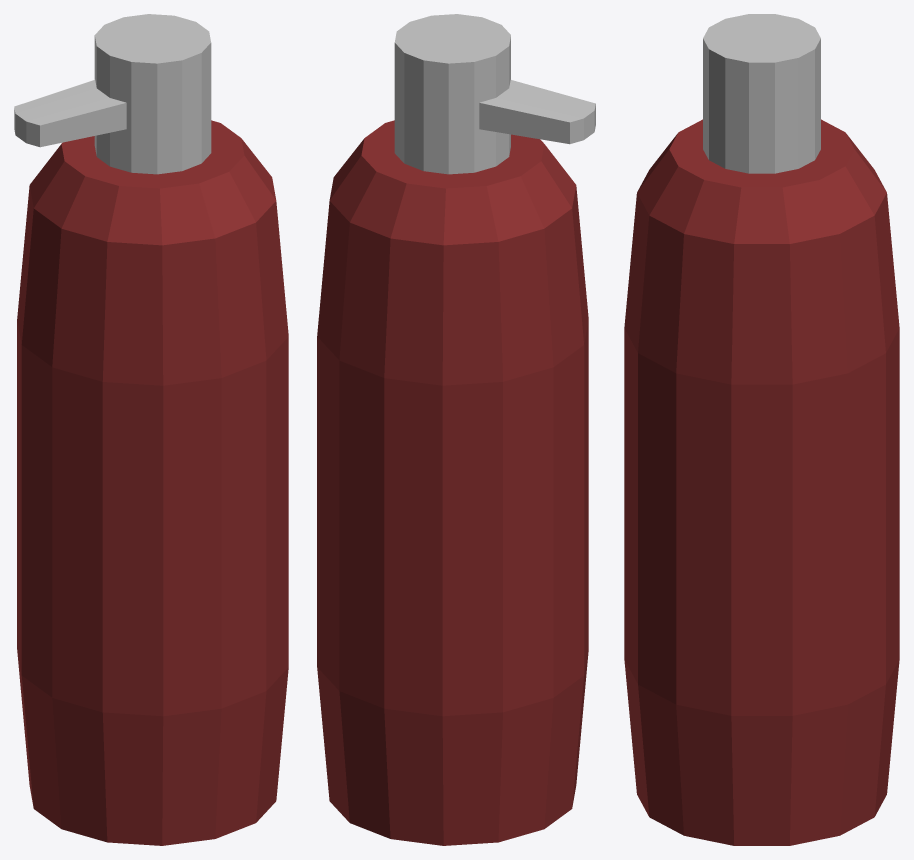
The model's file is Fluid Soap_1.fbx.
3 views of the same model, side by side, from view 1: azimuth 30°, elevation 25°; view 2: azimuth 150°, elevation 25°; view 3: azimuth 270°, elevation 25° (orthographic).
Parts seen in each view (by area): view 1: Fluid Soap_1; view 2: Fluid Soap_1; view 3: Fluid Soap_1.
Boxes of the visible parts, <box> form: Fluid Soap_1: <box>14,14,288,845</box>; Fluid Soap_1: <box>317,14,595,845</box>; Fluid Soap_1: <box>624,14,899,845</box>.
Size of the model in its own units: 0.0556 by 0.1602 by 0.0528.
